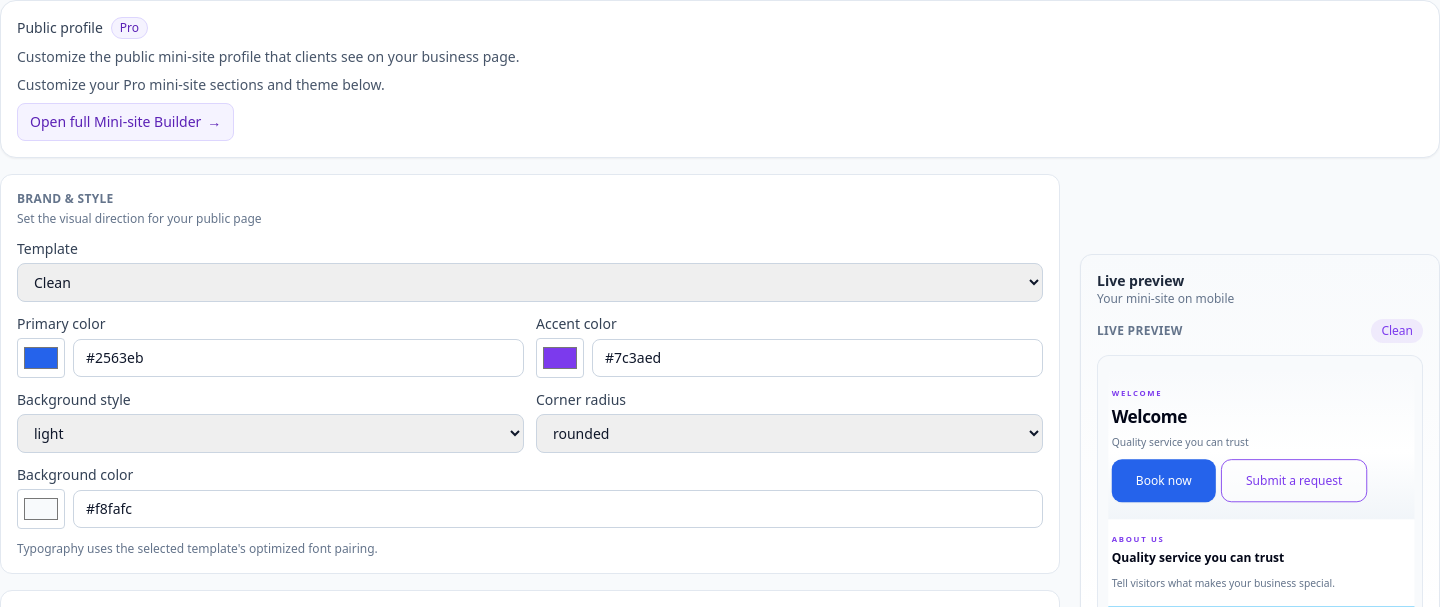
Test: PublicProfileSettingsCard › shows service request image slot when service template is selected
Select "Service" in the dropdown with test id "mini-site-template" at (530, 282), box [17,263,1043,302]
(page scrolled)
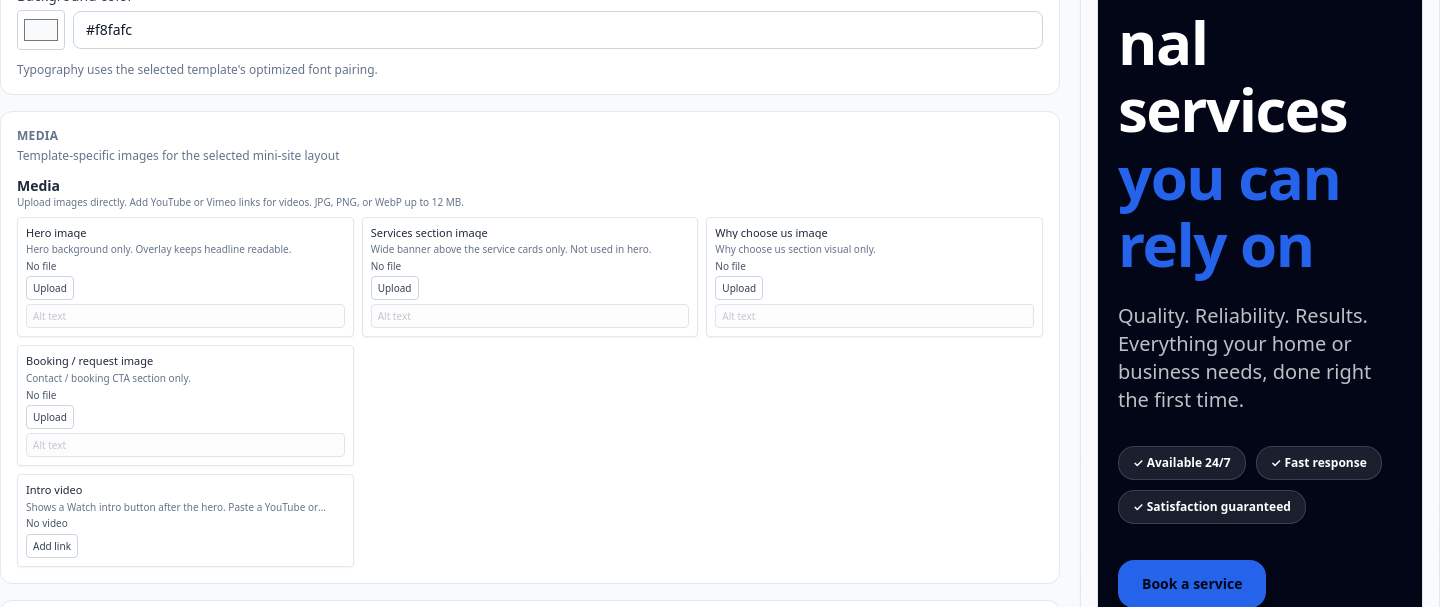
Expected: the element with test id "mini-site-media-slot-requestImage" shows "Booking / request image", [26,353,153,368]
